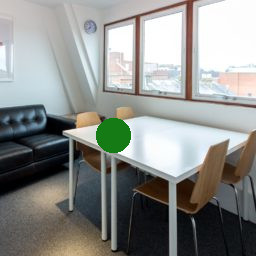focus: (93, 114, 140, 157)
